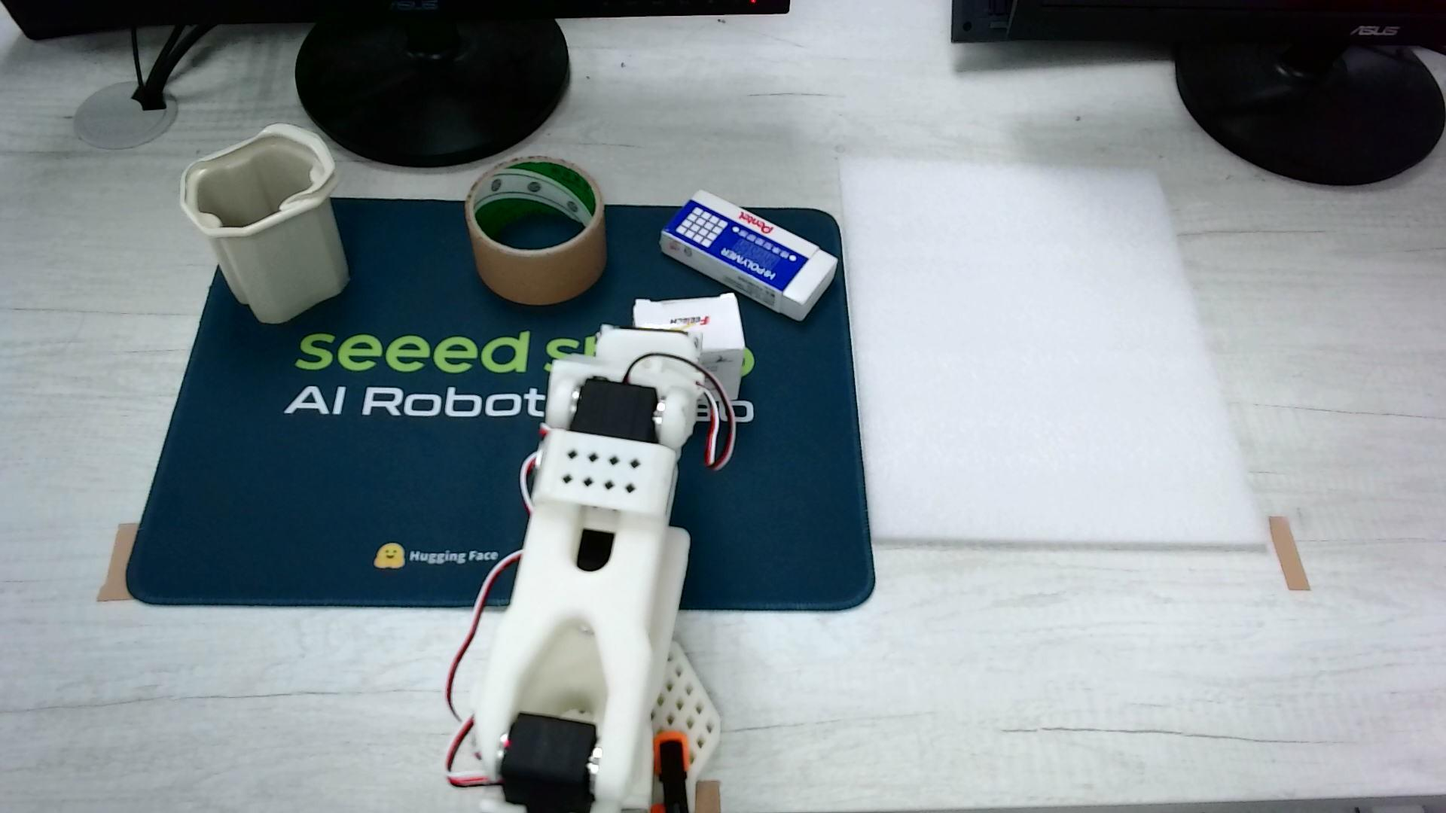eraser: (633, 292, 746, 400)
